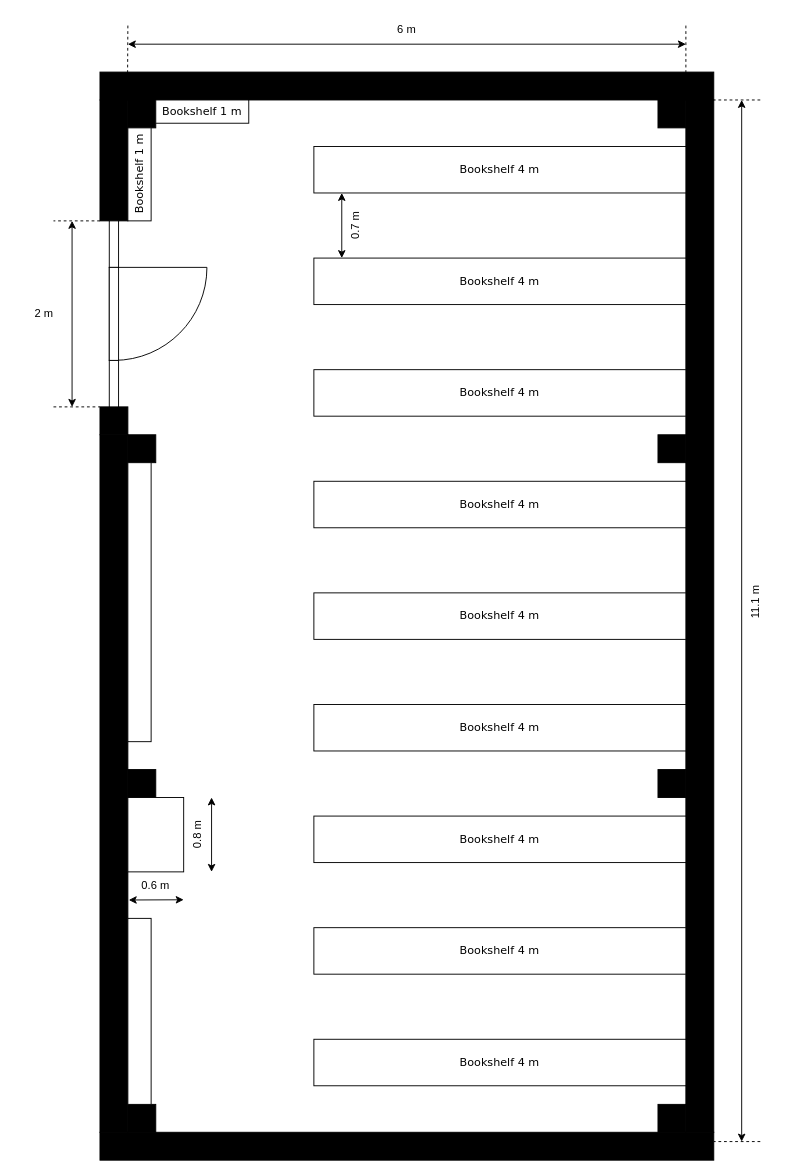
The diagram is 785 pixels wide and 1176 high, and some of its shapes have lost their labels. Here are the shapes that lost their labels. From the top down, the centre of each, then its label:
At point 139,602: "Bookshelf 3 m".
At point 155,834: "Table".
At point 139,1010: "Bookshelf 2 m".
